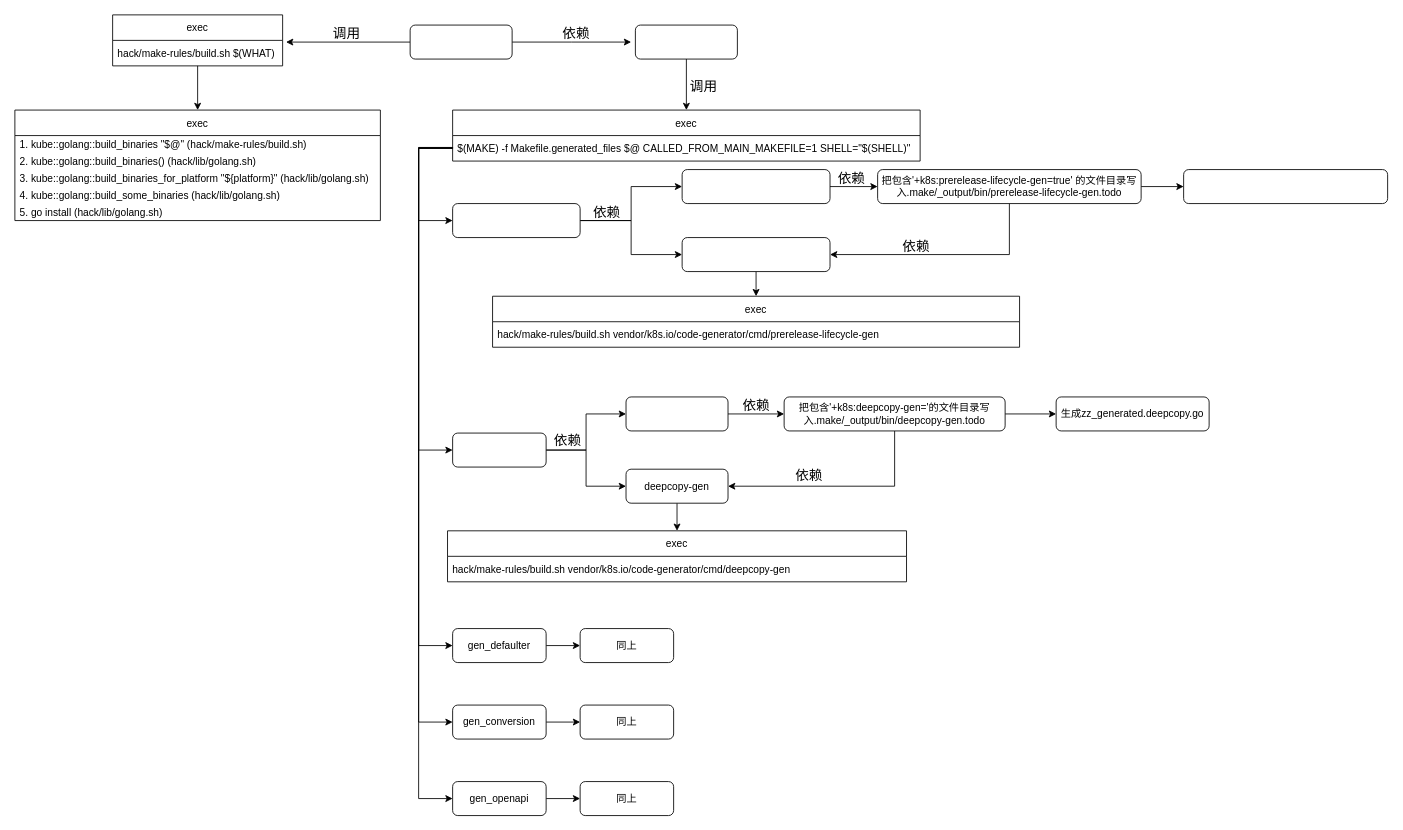
The diagram is 1403 pixels wide and 830 high, and some of its shapes have lost their labels. The shapes that lost their labels are listed below. From the top down, each one's centre as x and y in pixels, then its label:
the point at 460,41: make all
the point at 686,41: genrated_files
the point at 755,186: prerelease-lifecycle-gen.todo
the point at 1285,186: 生成zz_generated.prerelease-lifecycle.go
the point at 516,220: gen_prerelease_lifecycle
the point at 755,254: prerelease-lifecycle-gen
the point at 676,413: deepcopy-gen.todo
the point at 499,449: gen_deepcopy
